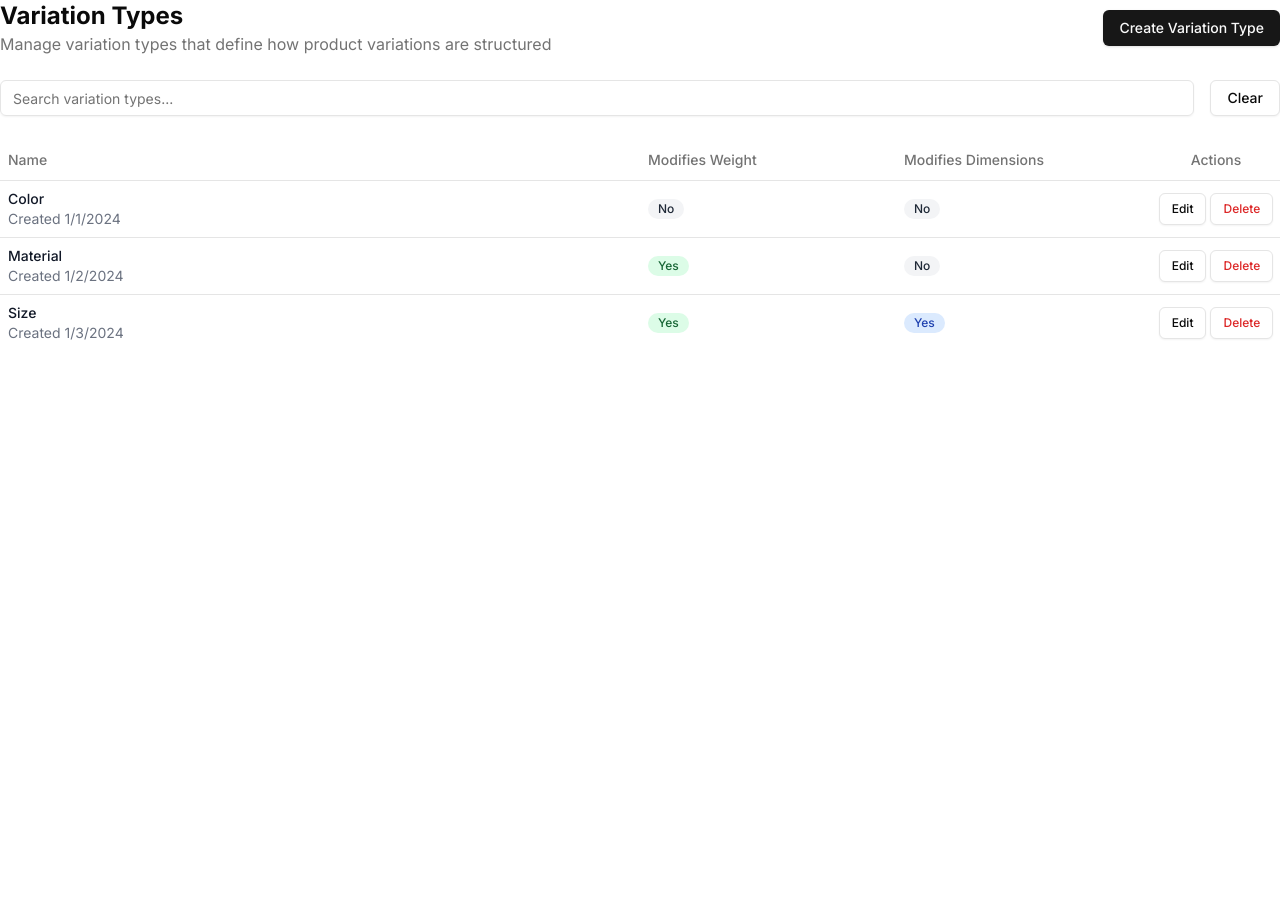
Test case: VariationTypeList › opens edit modal when edit button is clicked
Click the button "Edit" in the row of "Color" at (1183, 208), box 1159,192 -> 1206,224
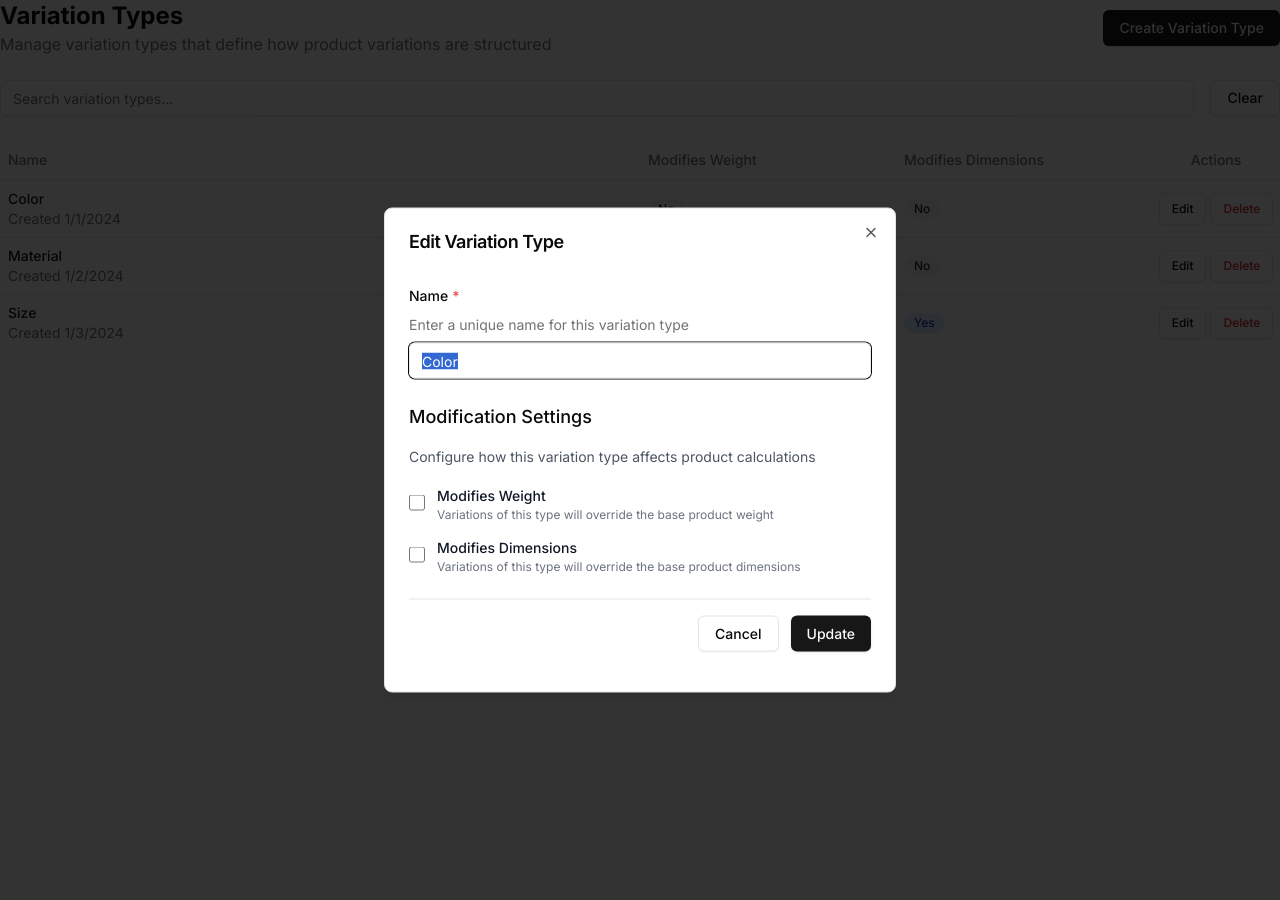
Check: the heading "Edit Variation Type" is shown, box 409,230 -> 564,252
Check: the field showing "Color" is shown, box 409,342 -> 871,378
